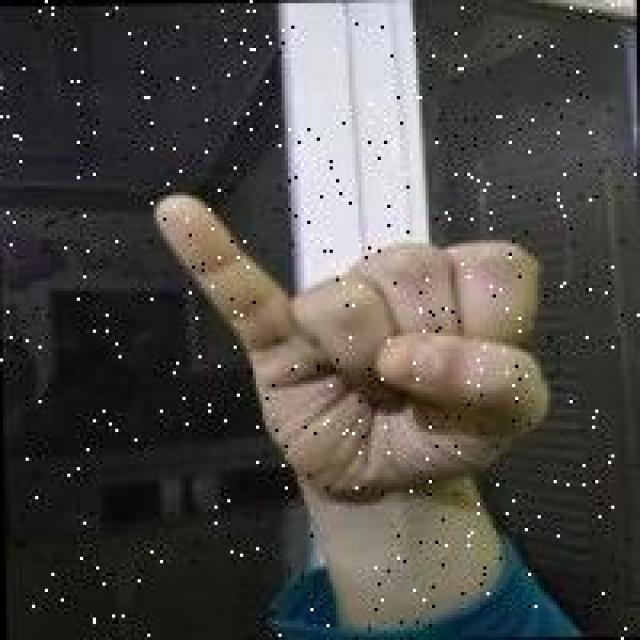I: (148, 171, 562, 514)
